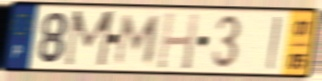3: (210, 13, 244, 71)
8: (37, 11, 70, 66)
H: (155, 10, 202, 72)
I: (264, 15, 283, 72)
M: (62, 9, 119, 70), (112, 13, 163, 67)
